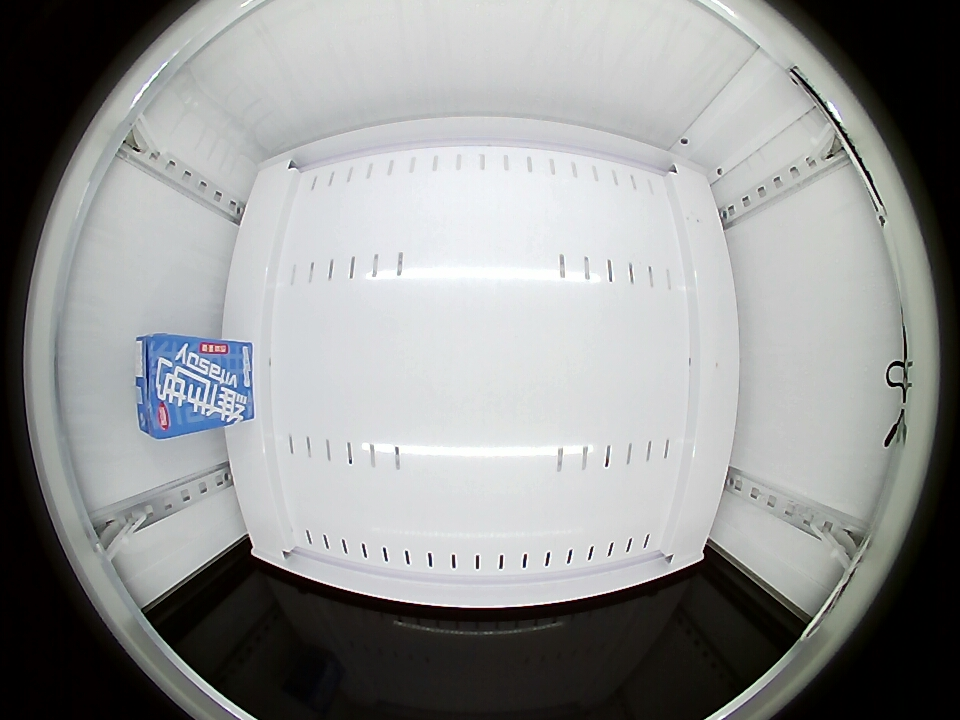weitanai: (135, 334, 206, 440)
